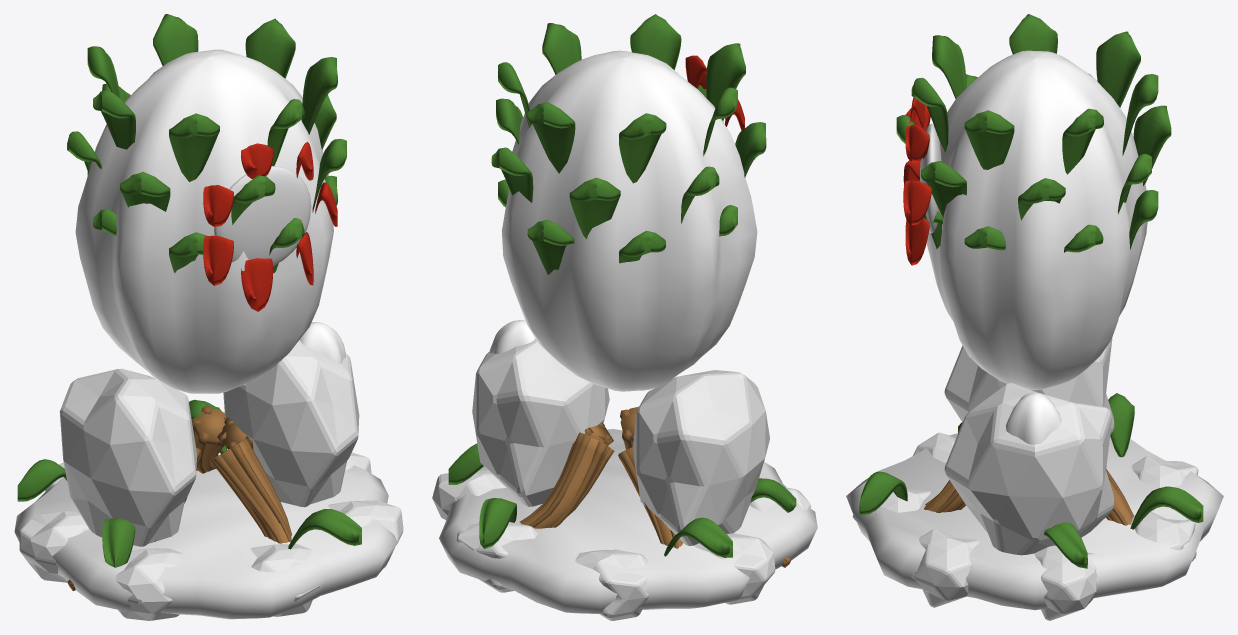
The model's file is dragonfruit-2.fbx.
The picture shows the model from 3 angles, left to right: view 1: azimuth 30°, elevation 25°; view 2: azimuth 150°, elevation 25°; view 3: azimuth 270°, elevation 25°; orthographic projection. The views are drawn at different scales.
Visible parts, largest first — view 1: Turret_PortalPeel, Turret_Stone, EarthBed, Petals_PortalBamboo, dragonfruit-2_Stone, Barrel_PortalPeel, dragonfruit-2_Bark, EmberThroat, dragonfruit-2_PortalBamboo; view 2: Turret_PortalPeel, Turret_Stone, EarthBed, Petals_PortalBamboo, dragonfruit-2_Stone, dragonfruit-2_Bark, dragonfruit-2_PortalBamboo, Barrel_PortalPeel; view 3: Turret_PortalPeel, Turret_Stone, EarthBed, Petals_PortalBamboo, dragonfruit-2_Stone, dragonfruit-2_PortalBamboo, Barrel_PortalPeel, dragonfruit-2_Bark, EmberThroat.
Part boxes in pixels (<box>): Turret_PortalPeel: <box>75,49,345,393</box>; Turret_Stone: <box>59,340,359,546</box>; EarthBed: <box>14,465,397,619</box>; Petals_PortalBamboo: <box>67,14,346,273</box>; dragonfruit-2_Stone: <box>19,449,403,620</box>; Barrel_PortalPeel: <box>203,142,337,311</box>; dragonfruit-2_Bark: <box>67,405,291,590</box>; EmberThroat: <box>214,166,311,265</box>; dragonfruit-2_PortalBamboo: <box>17,399,361,567</box>; Turret_PortalPeel: <box>489,50,757,391</box>; Turret_Stone: <box>472,339,769,545</box>; EarthBed: <box>439,429,817,613</box>; Petals_PortalBamboo: <box>491,14,766,274</box>; dragonfruit-2_Stone: <box>432,470,811,620</box>; dragonfruit-2_Bark: <box>520,406,791,567</box>; dragonfruit-2_PortalBamboo: <box>448,443,796,557</box>; Barrel_PortalPeel: <box>685,55,744,130</box>; Turret_PortalPeel: <box>926,50,1147,444</box>; Turret_Stone: <box>944,338,1114,555</box>; EarthBed: <box>846,433,1223,610</box>; Petals_PortalBamboo: <box>896,14,1171,252</box>; dragonfruit-2_Stone: <box>852,432,1198,620</box>; dragonfruit-2_PortalBamboo: <box>859,393,1203,568</box>; Barrel_PortalPeel: <box>903,97,931,265</box>; dragonfruit-2_Bark: <box>924,469,1133,525</box>; EmberThroat: <box>920,124,941,233</box>.
Bounding box in the file's own units: 83.98 × 119 × 82.7.
